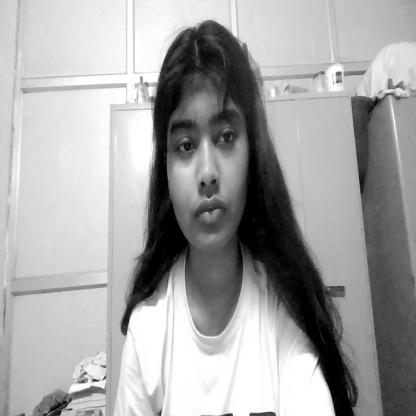Normal: (156, 25, 260, 262)
